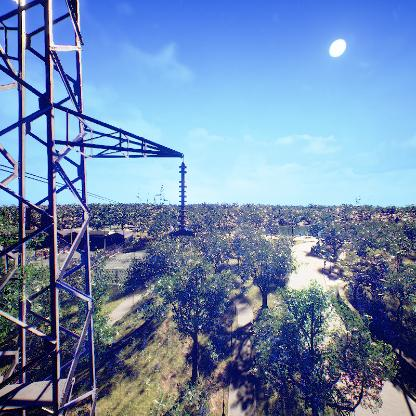insulator: (175, 163, 189, 229)
